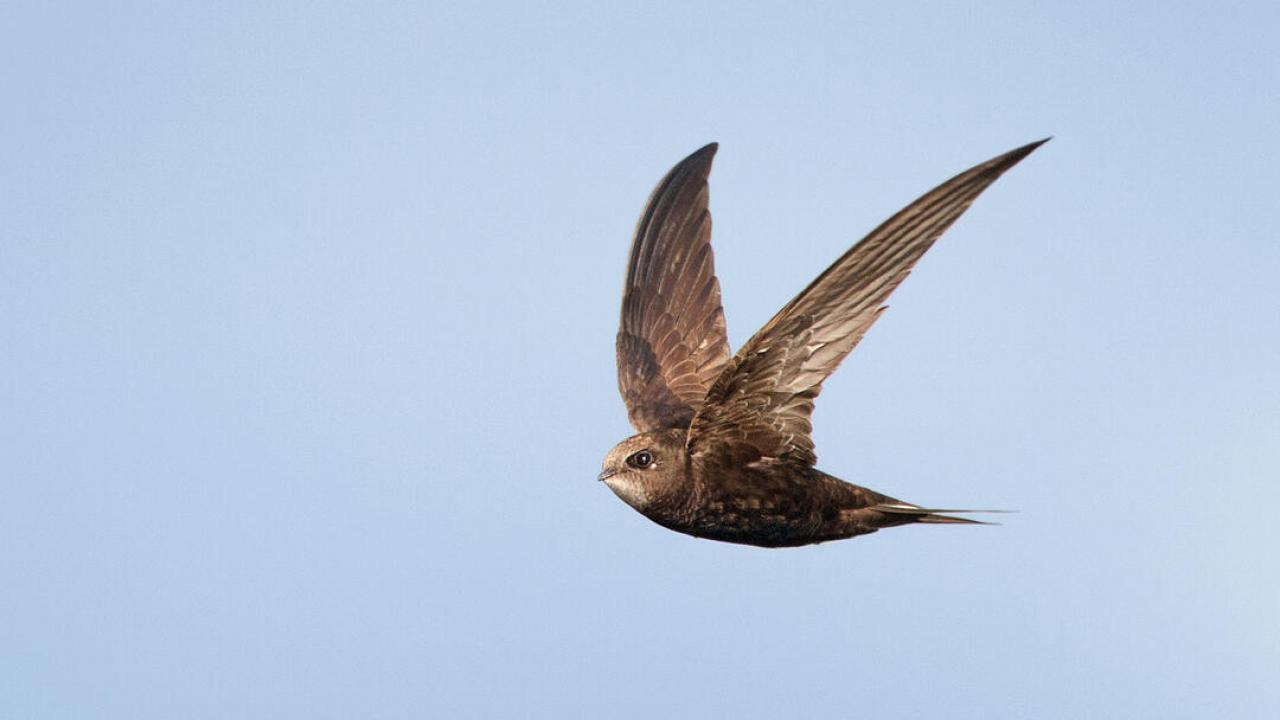Bird: (578, 123, 1060, 558)
